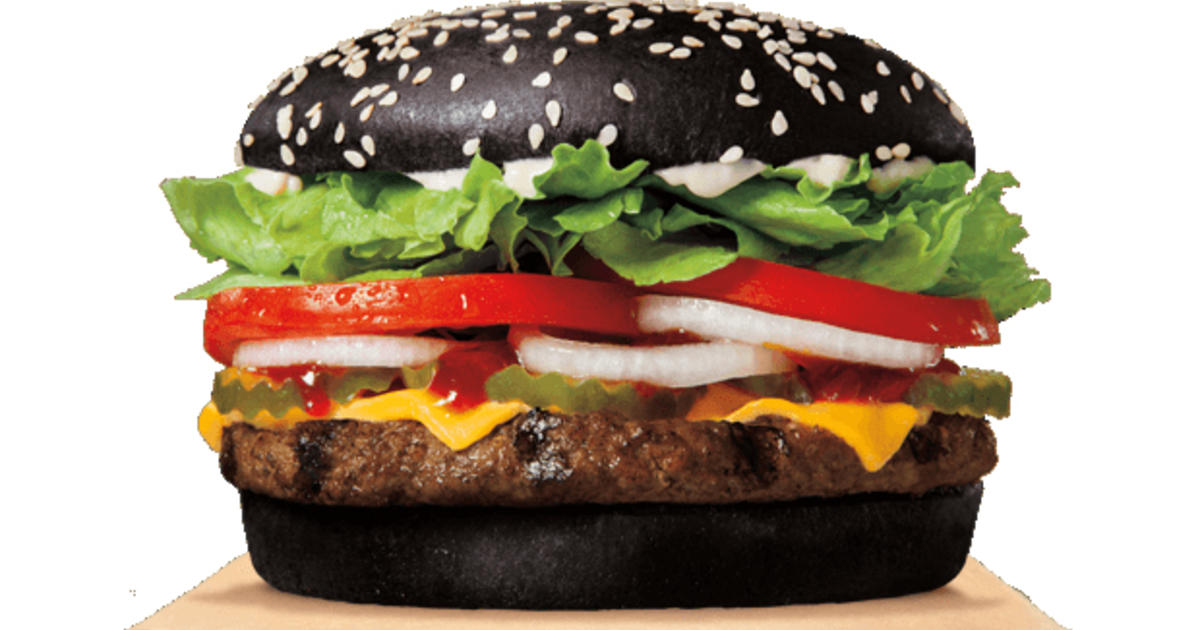hamburger_buns: (250, 7, 1043, 189), (251, 446, 1022, 630)
